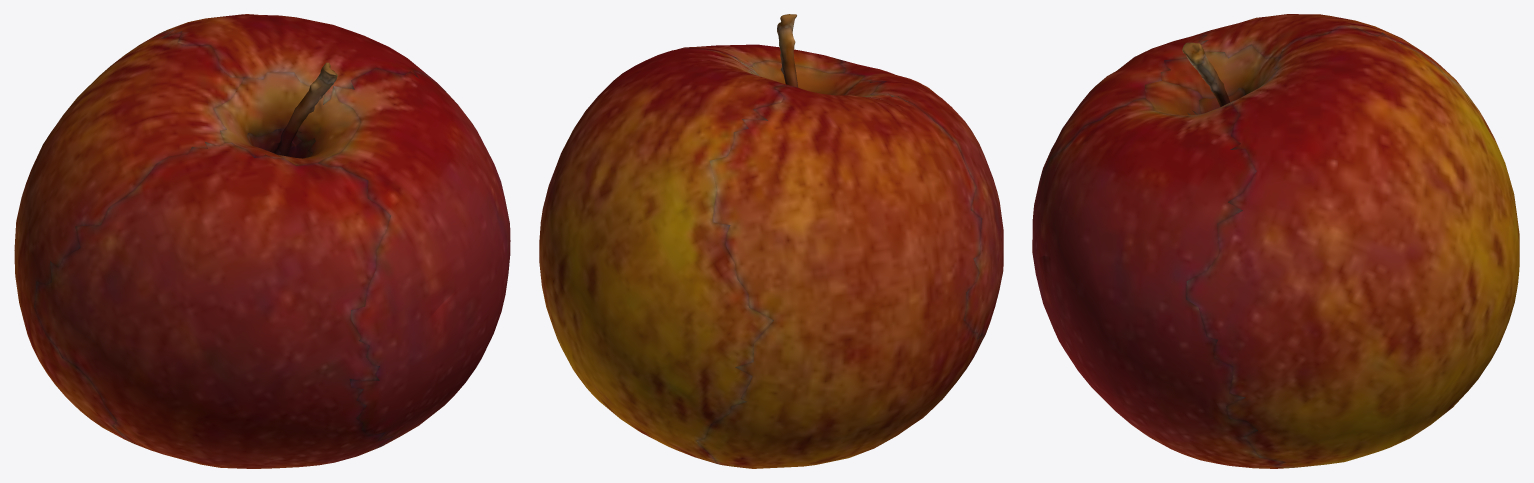
File: apple.glb
3 renders of one model, left to right at view 1: azimuth 30°, elevation 25°; view 2: azimuth 150°, elevation 25°; view 3: azimuth 270°, elevation 25°, orthographic. The views are drawn at different scales.
Parts seen in each view (by area): view 1: food_apple_01; view 2: food_apple_01; view 3: food_apple_01.
Boxes of the visible parts, <box> form: food_apple_01: <box>14,14,510,468</box>; food_apple_01: <box>539,14,1003,468</box>; food_apple_01: <box>1032,14,1519,468</box>.
Size of the model in its own units: 0.0976 by 0.0854 by 0.0958.
Materials: 1 (1 with a texture image).
